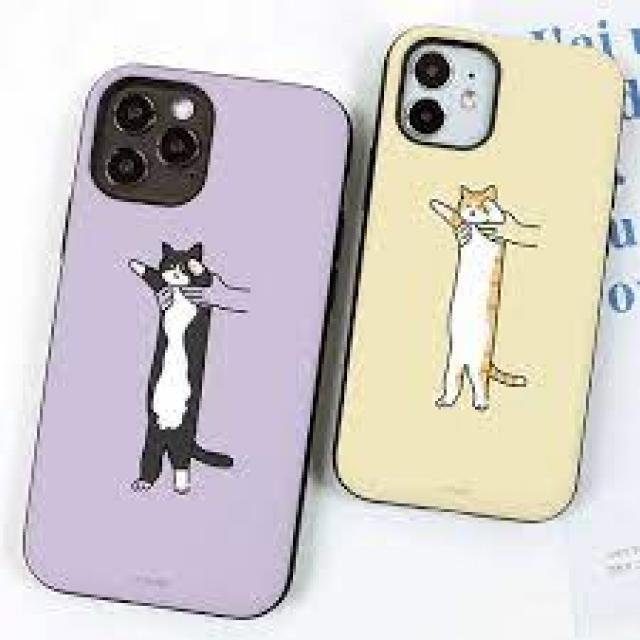Phone: (15, 59, 354, 620), (327, 24, 628, 526)
